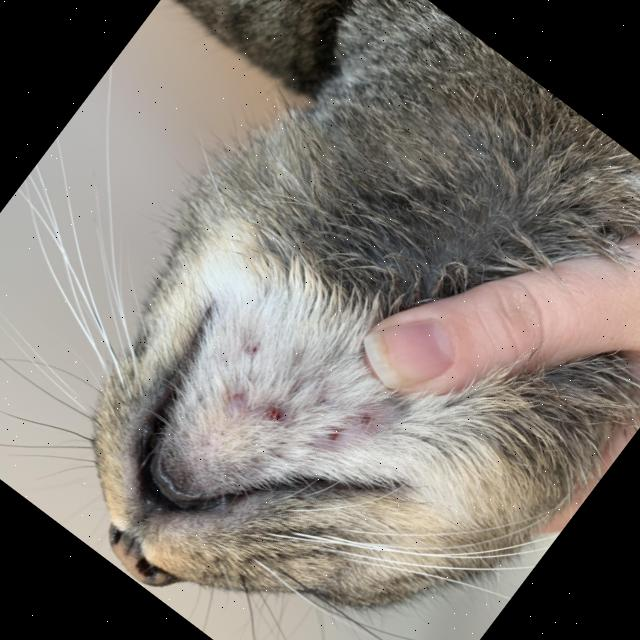cat-acne: (251, 386, 300, 436), (214, 373, 259, 418), (345, 398, 388, 442), (230, 328, 271, 369), (314, 417, 352, 455)
